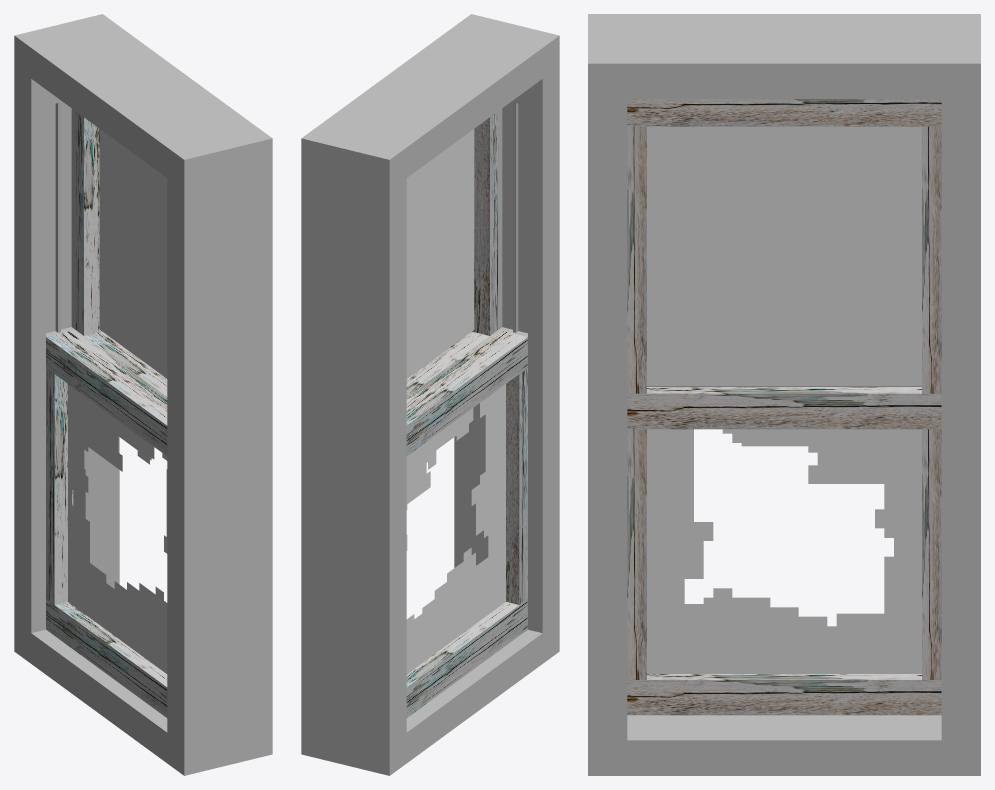
File: brokenwindowcabin1.fbx
The picture shows the model from 3 angles, left to right: view 1: azimuth 30°, elevation 25°; view 2: azimuth 150°, elevation 25°; view 3: azimuth 270°, elevation 25°; orthographic projection. The views are drawn at different scales.
Parts seen in each view (by area): view 1: Cube.002, Cube.003, Cube.001, glass.001, Cube.014, Cube, Cube.005, Cube.009, Cube.006, Cube.013, Cube.007, Cube.011; view 2: Cube.003, Cube.002, Cube.001, glass.001, Cube.014, Cube, Cube.005, Cube.008, Cube.006, Cube.012, Cube.007, Cube.010; view 3: glass.001, Cube.014, Cube.001, Cube.002, Cube.003, Cube, Cube.007, Cube.006, Cube.004, Cube.008, Cube.009, Cube.012 (+1 smaller).
Boxes of the visible parts, left/top/right/bottom form: Cube.002: left=167, top=169, right=272, bottom=744; Cube.003: left=14, top=66, right=119, bottom=632; Cube.001: left=14, top=14, right=272, bottom=190; glass.001: left=99, top=129, right=167, bottom=378; Cube.014: left=68, top=384, right=167, bottom=673; Cube: left=14, top=621, right=272, bottom=775; Cube.005: left=46, top=330, right=167, bottom=455; Cube.009: left=75, top=111, right=101, bottom=335; Cube.006: left=46, top=599, right=167, bottom=717; Cube.013: left=46, top=368, right=73, bottom=604; Cube.007: left=84, top=331, right=167, bottom=396; Cube.011: left=55, top=102, right=60, bottom=332; Cube.003: left=301, top=169, right=406, bottom=744; Cube.002: left=454, top=66, right=559, bottom=632; Cube.001: left=301, top=14, right=559, bottom=190; glass.001: left=406, top=129, right=474, bottom=378; Cube.014: left=406, top=384, right=505, bottom=673; Cube: left=301, top=621, right=559, bottom=775; Cube.005: left=406, top=330, right=527, bottom=455; Cube.008: left=472, top=111, right=498, bottom=335; Cube.006: left=406, top=599, right=527, bottom=717; Cube.012: left=506, top=368, right=527, bottom=604; Cube.007: left=406, top=331, right=489, bottom=396; Cube.010: left=513, top=102, right=518, bottom=332; glass.001: left=647, top=126, right=921, bottom=386; Cube.014: left=647, top=429, right=921, bottom=673; Cube.001: left=588, top=14, right=980, bottom=99; Cube.002: left=588, top=99, right=627, bottom=740; Cube.003: left=941, top=99, right=980, bottom=740; Cube: left=588, top=715, right=980, bottom=775; Cube.007: left=627, top=387, right=941, bottom=429; Cube.006: left=627, top=674, right=941, bottom=715; Cube.004: left=627, top=99, right=941, bottom=126; Cube.008: left=627, top=126, right=646, bottom=393; Cube.009: left=922, top=126, right=941, bottom=393; Cube.012: left=627, top=429, right=646, bottom=679.
Size of the model in its own units: 60 by 400 by 200.
